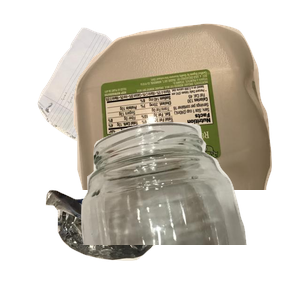glass: (74, 120, 300, 300)
paper: (35, 25, 232, 204)
plastic: (71, 21, 300, 201)
trash: (43, 187, 234, 300)
